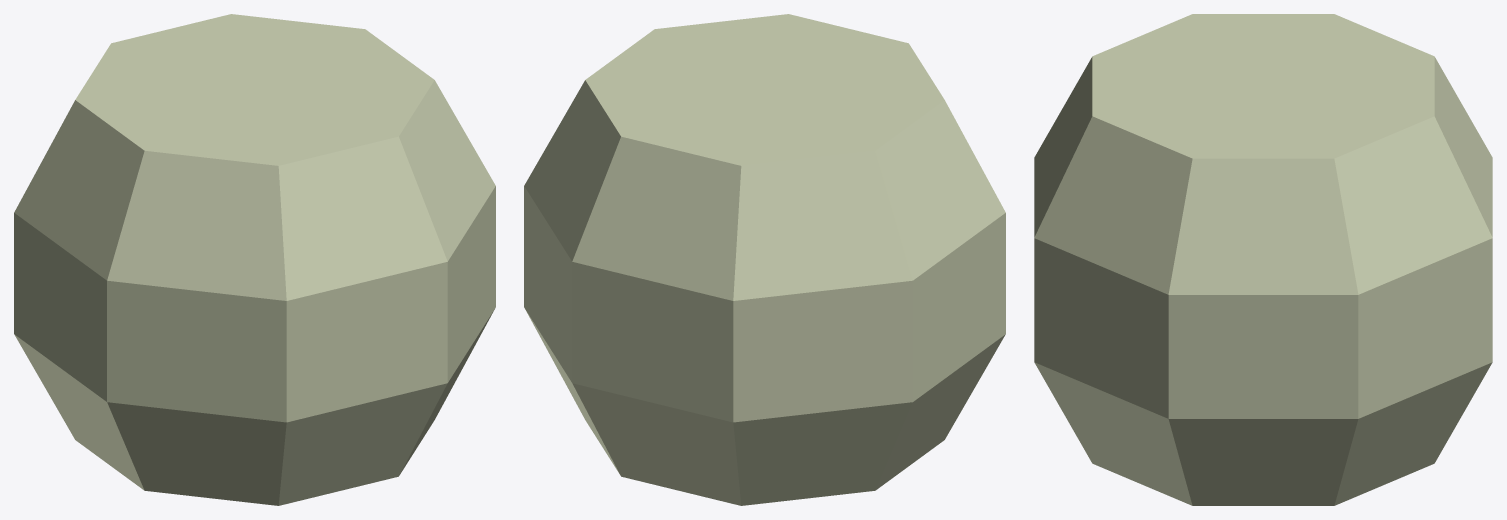
File: blue_sun_probe_core_s0_1_collider.obj
3 renders of one model, left to right at view 1: azimuth 30°, elevation 25°; view 2: azimuth 150°, elevation 25°; view 3: azimuth 270°, elevation 25°, orthographic. The views are drawn at different scales.
Parts seen in each view (by area): view 1: collider; view 2: collider; view 3: collider.
Boxes of the visible parts, x1,y1,x2,y2 form: collider: (14, 14, 495, 505); collider: (524, 14, 1005, 505); collider: (1034, 14, 1492, 505).
Bounding box in the file's own units: 0.8375 × 0.7 × 0.8375.
